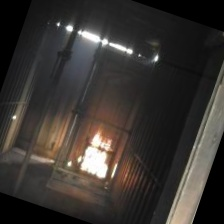fire: (74, 123, 127, 186)
